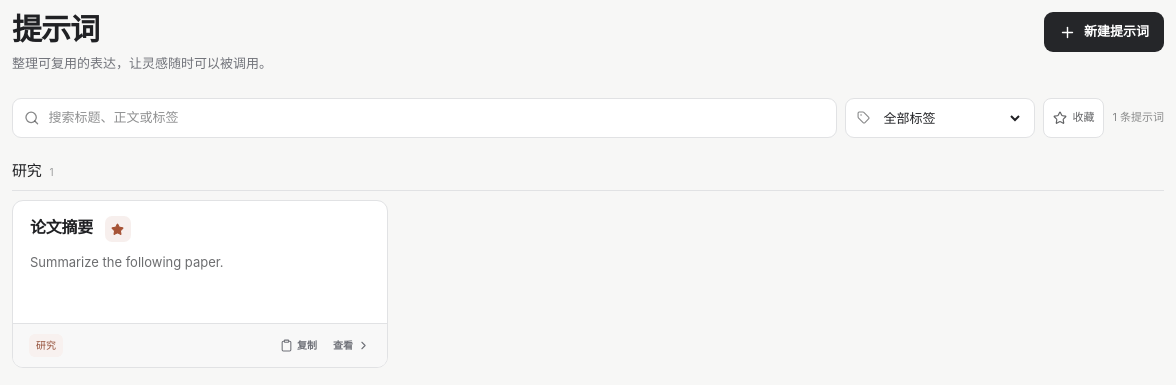
Test case: PromptsPage › copies a prompt directly from its library card without opening the editor
What coordinates should you click on to do the following:
click the button with aria-label "复制 论文摘要 的正文"
I would click on:
 (298, 346)
Its box is [273, 331, 324, 360].
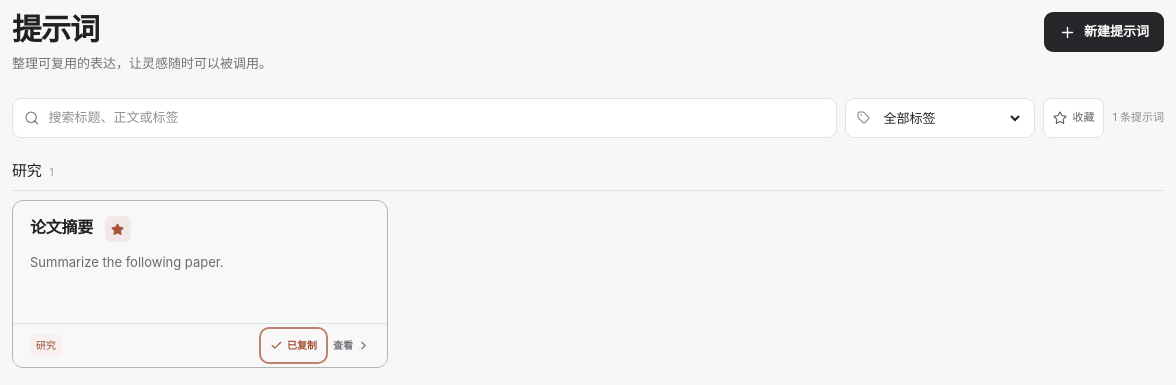
Expected: the button with aria-label "复制 论文摘要 的正文" reads "已复制", [263, 331, 324, 360]
